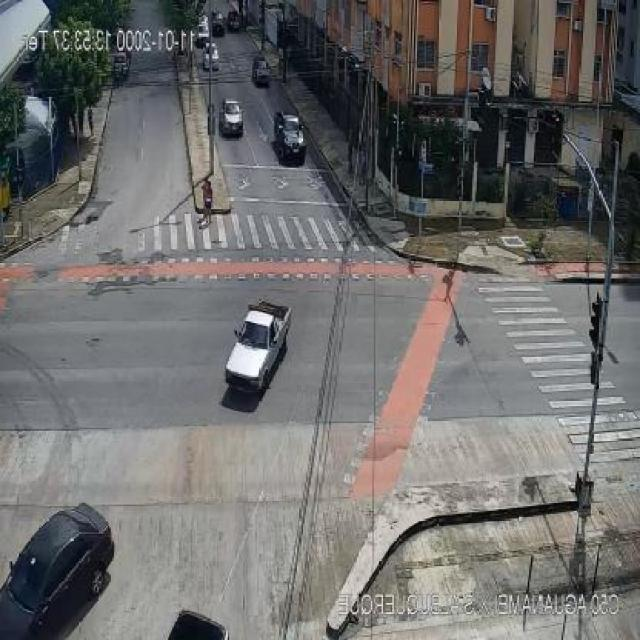Car: (0, 504, 112, 637), (272, 112, 306, 164), (218, 99, 244, 137), (113, 52, 132, 82), (252, 57, 271, 86), (202, 42, 220, 70), (196, 16, 211, 47), (211, 11, 225, 37), (226, 10, 242, 32)
Truck: (224, 299, 291, 394)
